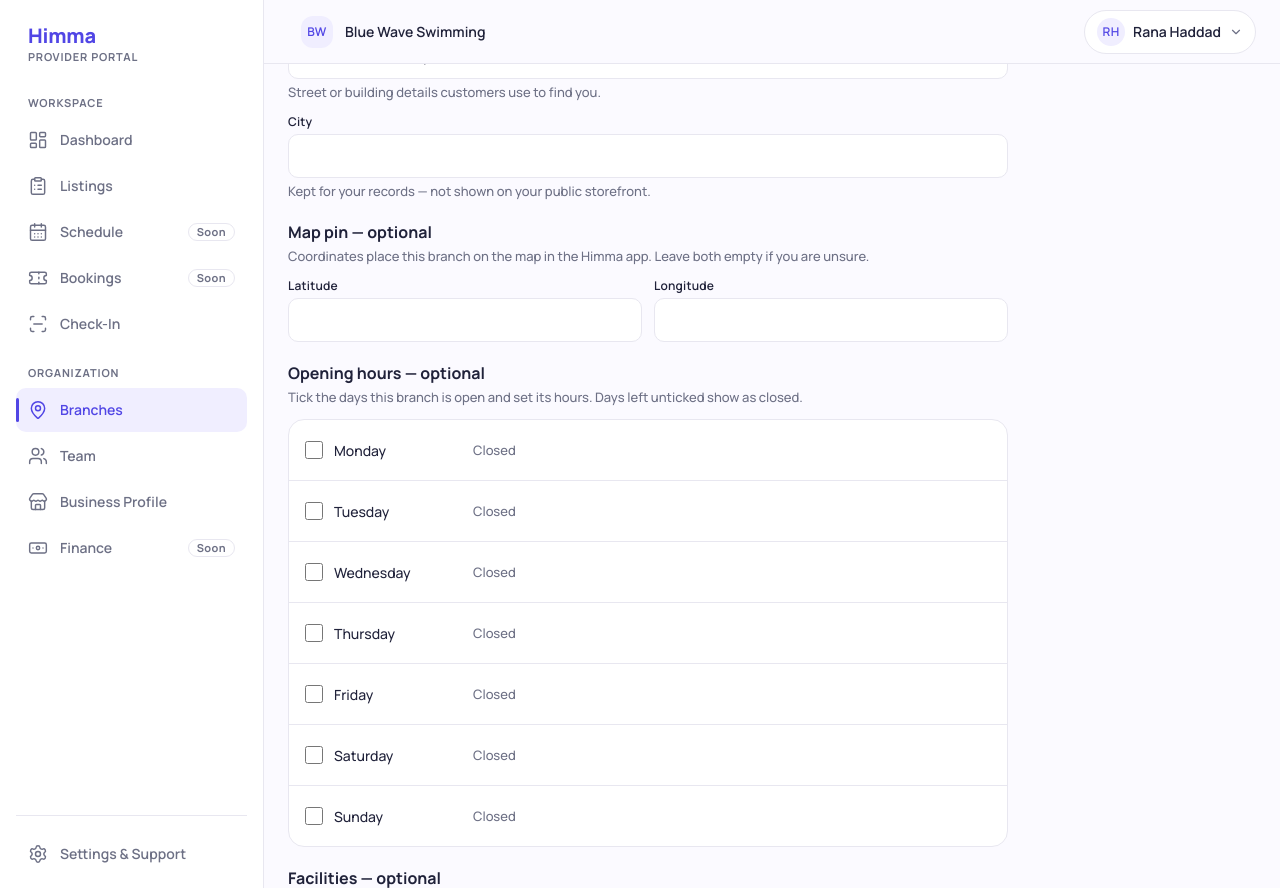
Scenario: branches accessibility (jest-axe, W2-5) › branch editor: full form incl. hours and facilities editors
(page scrolled)
Note: Open one day's hours editor so the time inputs are exercised too.
Click the checkbox labelled "Monday". click: (314, 450)
box: [305,441,323,459]
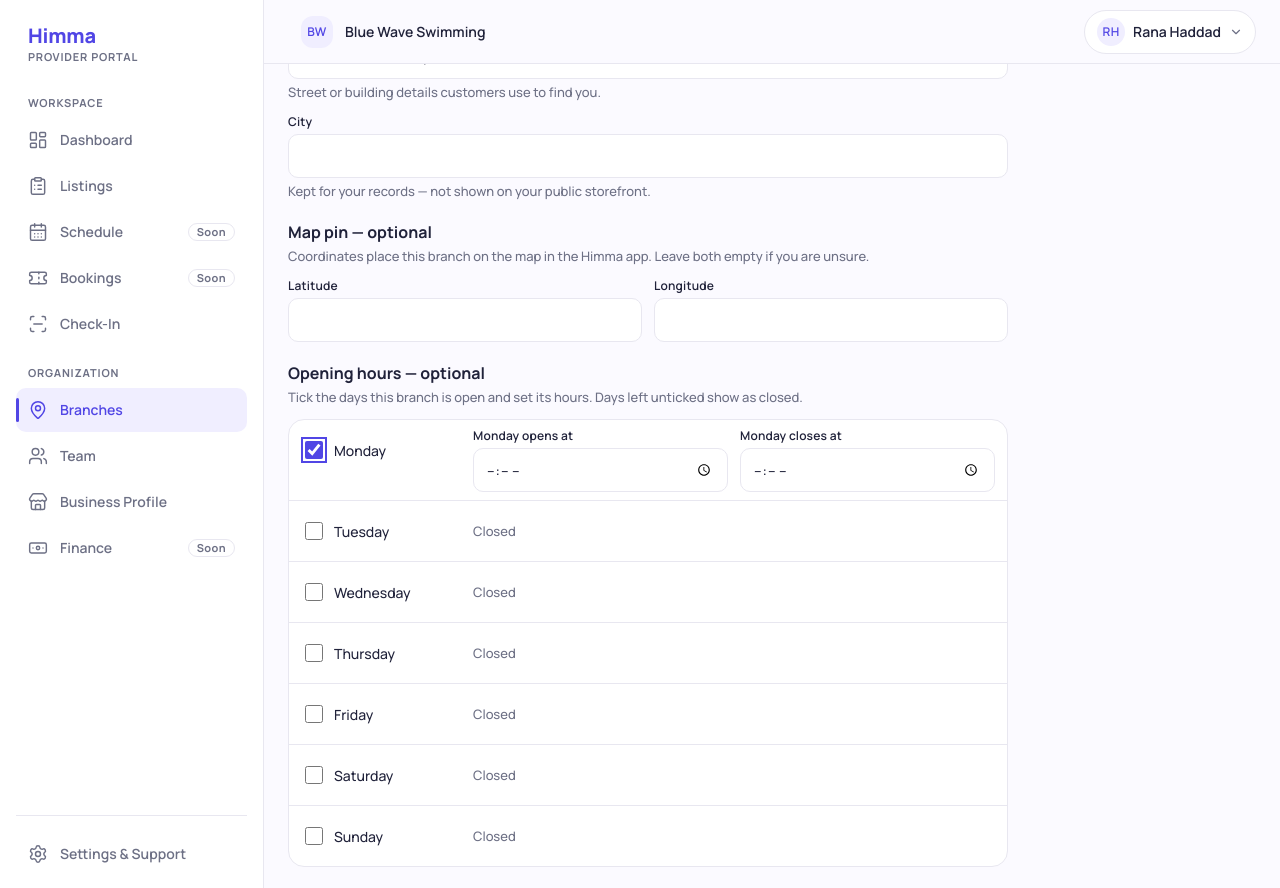
Expected: the time field labelled "Monday opens at" is shown, [473,448,728,492]
